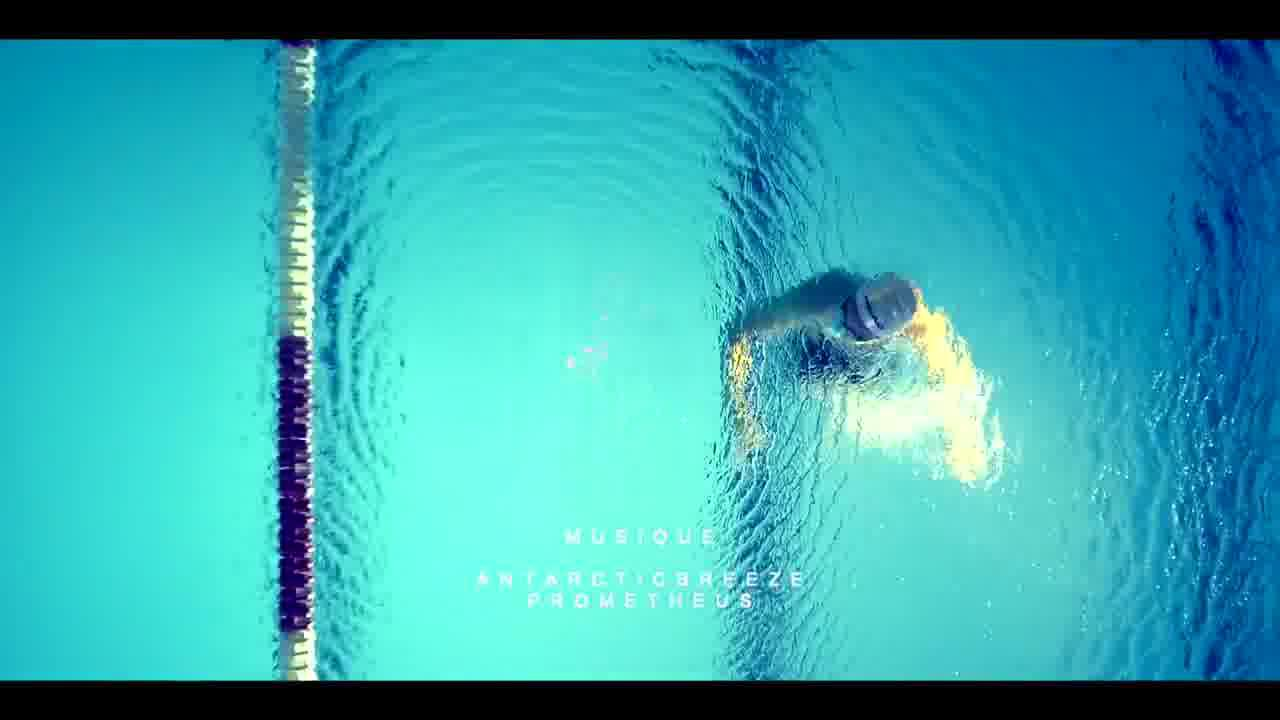human: (697, 252, 1001, 489)
